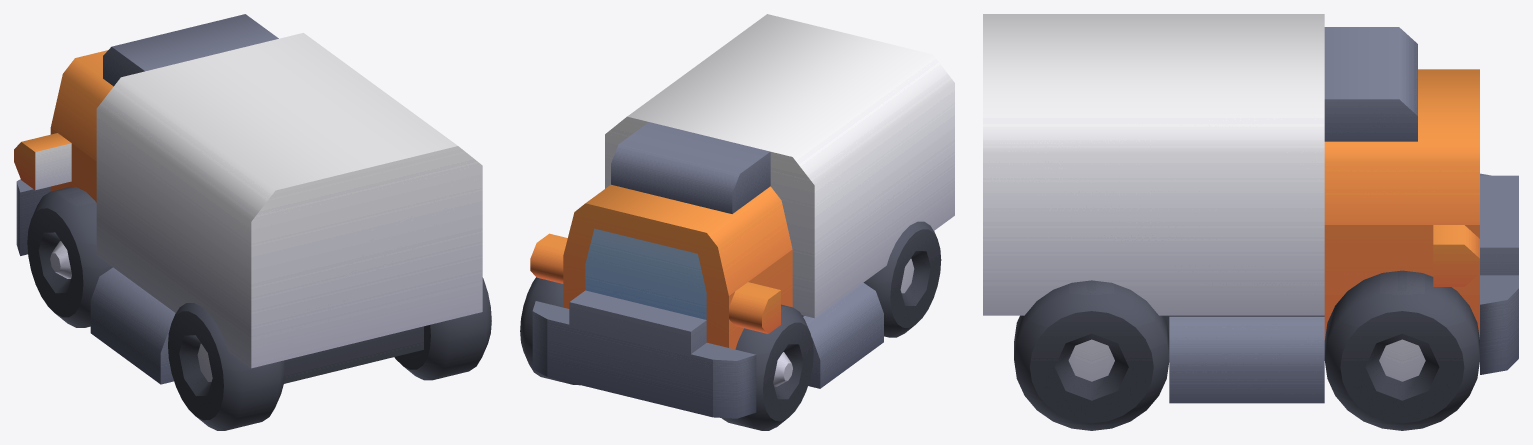
Rendered from urban.vehicle_proxy.toy_vehicle_truck_01.glb.
3 views of the same model, side by side, from view 1: azimuth 30°, elevation 25°; view 2: azimuth 150°, elevation 25°; view 3: azimuth 270°, elevation 25° (orthographic). The views are drawn at different scales.
Parts seen in each view (by area): view 1: vehicle-truck, wheel-bl, wheel-fl, wheel-br; view 2: vehicle-truck, wheel-fl, wheel-bl, wheel-fr; view 3: vehicle-truck, wheel-fr, wheel-br.
Boxes of the visible parts, left/top/right/bottom form: vehicle-truck: left=14, top=14, right=482, bottom=384; wheel-bl: left=168, top=303, right=284, bottom=430; wheel-fl: left=27, top=187, right=112, bottom=327; wheel-br: left=394, top=277, right=491, bottom=380; vehicle-truck: left=530, top=14, right=954, bottom=418; wheel-fl: left=721, top=304, right=813, bottom=430; wheel-bl: left=863, top=221, right=941, bottom=337; wheel-fr: left=520, top=277, right=580, bottom=385; vehicle-truck: left=983, top=14, right=1518, bottom=403; wheel-fr: left=1324, top=270, right=1479, bottom=430; wheel-br: left=1014, top=280, right=1169, bottom=430.
Size of the model in its own units: 0.5625 by 0.525 by 0.8625.
Materials: 1 (1 with a texture image).
